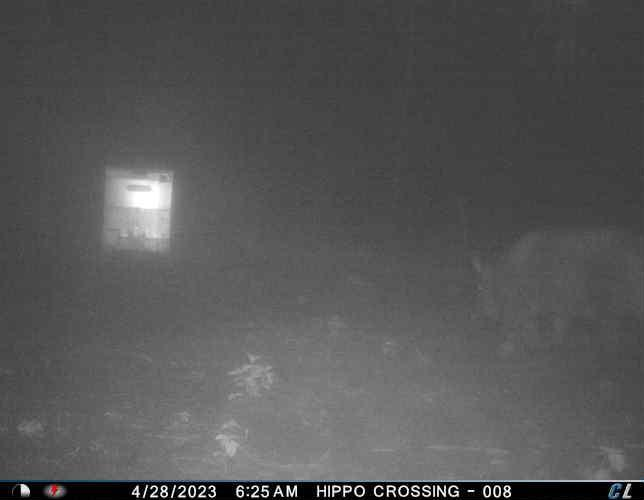Hog: (461, 221, 644, 365)
